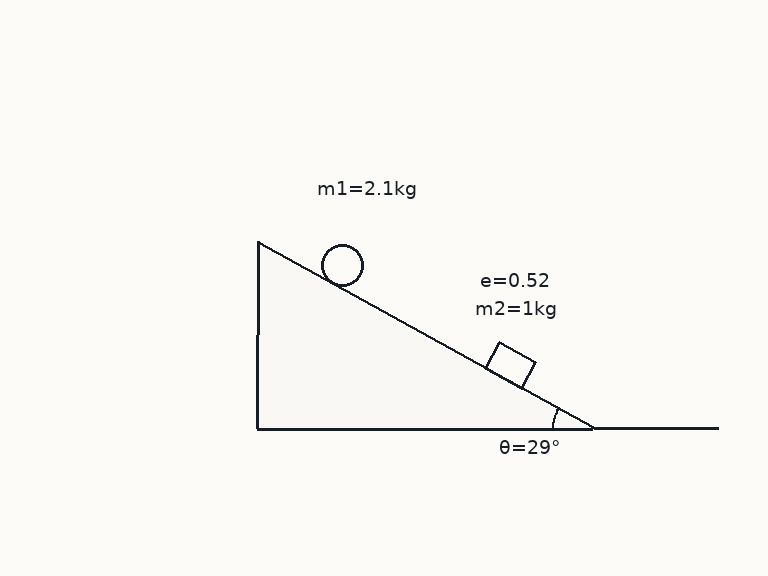ball: (319, 242, 365, 288)
block: (483, 339, 538, 390)
ramp: (255, 240, 595, 430)
